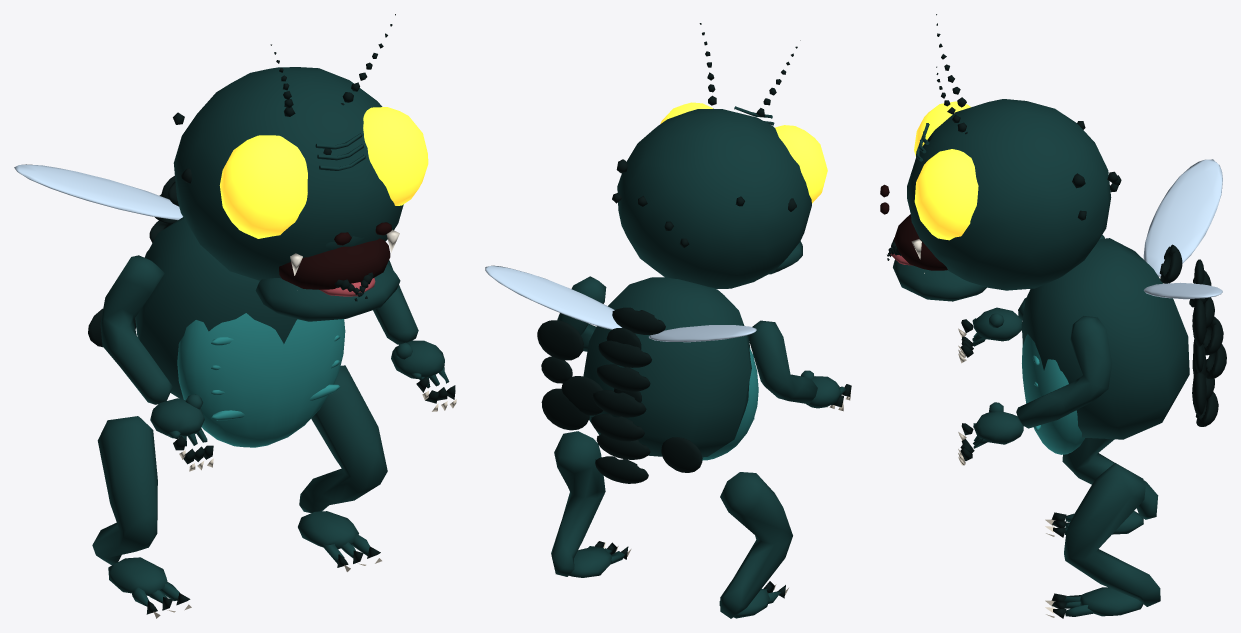
File: svaerm_1.glb
3 views of the same model, side by side, from view 1: azimuth 30°, elevation 25°; view 2: azimuth 150°, elevation 25°; view 3: azimuth 270°, elevation 25° (orthographic). The views are drawn at different scales.
Parts seen in each view (by area): view 1: hoved_net, krop_net, benH_net, benV_net, armH_net, armV_net; view 2: krop_net, hoved_net, benH_net, benV_net, armH_net, armV_net; view 3: hoved_net, krop_net, benV_net, armV_net, benH_net, armH_net.
Boxes of the visible parts, left/top/right/bottom form: hoved_net: left=173, top=14, right=428, bottom=321; krop_net: left=14, top=164, right=345, bottom=447; benH_net: left=92, top=416, right=191, bottom=618; benV_net: left=298, top=365, right=387, bottom=571; armH_net: left=100, top=255, right=213, bottom=471; armV_net: left=373, top=260, right=456, bottom=411; krop_net: left=485, top=265, right=758, bottom=483; hoved_net: left=612, top=23, right=827, bottom=288; benH_net: left=719, top=472, right=792, bottom=618; benV_net: left=551, top=431, right=631, bottom=577; armH_net: left=747, top=320, right=851, bottom=411; armV_net: left=557, top=276, right=606, bottom=351; hoved_net: left=880, top=14, right=1121, bottom=301; krop_net: left=1021, top=159, right=1226, bottom=454; benV_net: left=1045, top=463, right=1160, bottom=618; armV_net: left=958, top=316, right=1111, bottom=465; benH_net: left=1045, top=438, right=1158, bottom=537; armH_net: left=958, top=235, right=1104, bottom=363.
Bounding box in the file's own units: 0.5107 × 0.9204 × 0.5426.
